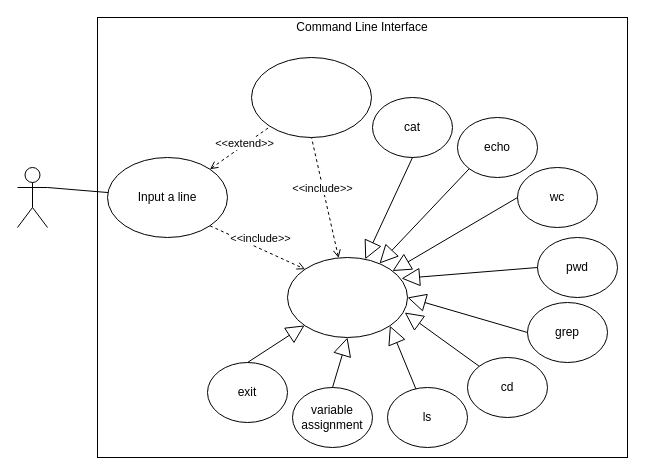
Some shapes in this 645 by 475 pixel diagram are drawn without their labels. The centre of each missing label's shape, as x and y in pixels:
Input a command: (x=347, y=297)
Input a pipeline: (x=311, y=97)
User: (x=32, y=197)
